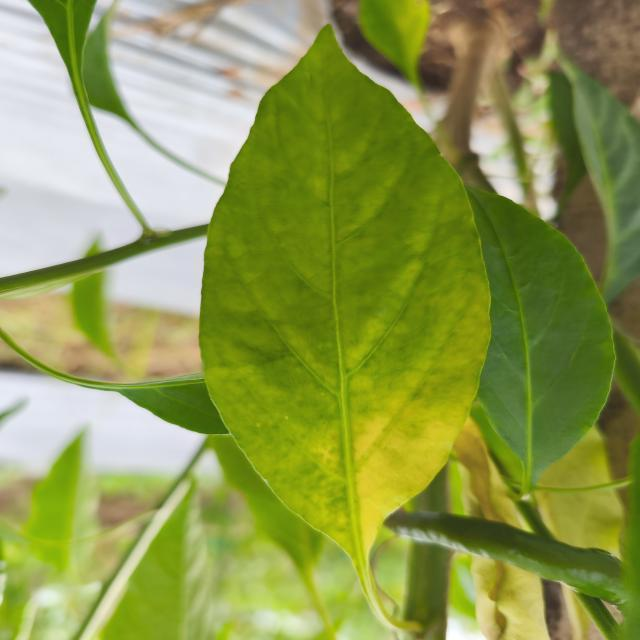Daun Cabai Sehat: (460, 172, 620, 485)
Virus Kuning: (197, 24, 494, 541)
